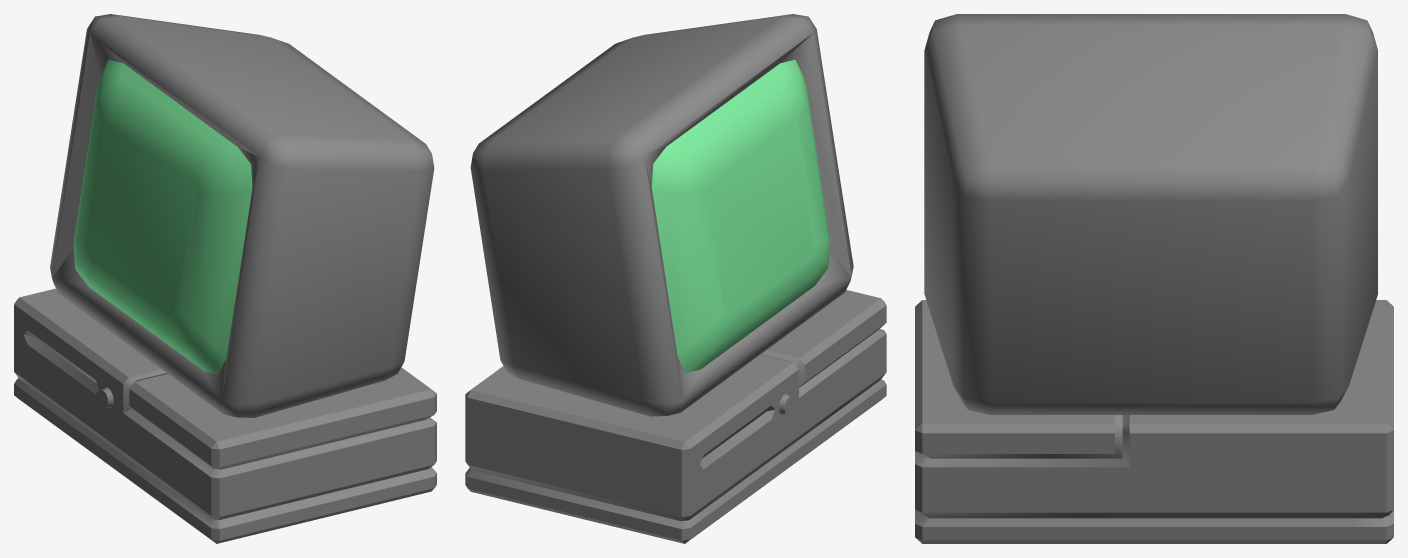
The model's file is Computer.fbx.
3 renders of one model, left to right at view 1: azimuth 30°, elevation 25°; view 2: azimuth 150°, elevation 25°; view 3: azimuth 270°, elevation 25°, orthographic. The views are drawn at different scales.
Visible parts, largest first — view 1: Computer; view 2: Computer; view 3: Computer.
Boxes of the visible parts, bbox=[...] form: Computer: bbox=[14, 14, 436, 543]; Computer: bbox=[465, 14, 886, 543]; Computer: bbox=[915, 14, 1393, 543].
Bounding box in the file's own units: 43.77 × 62.63 × 61.29.
